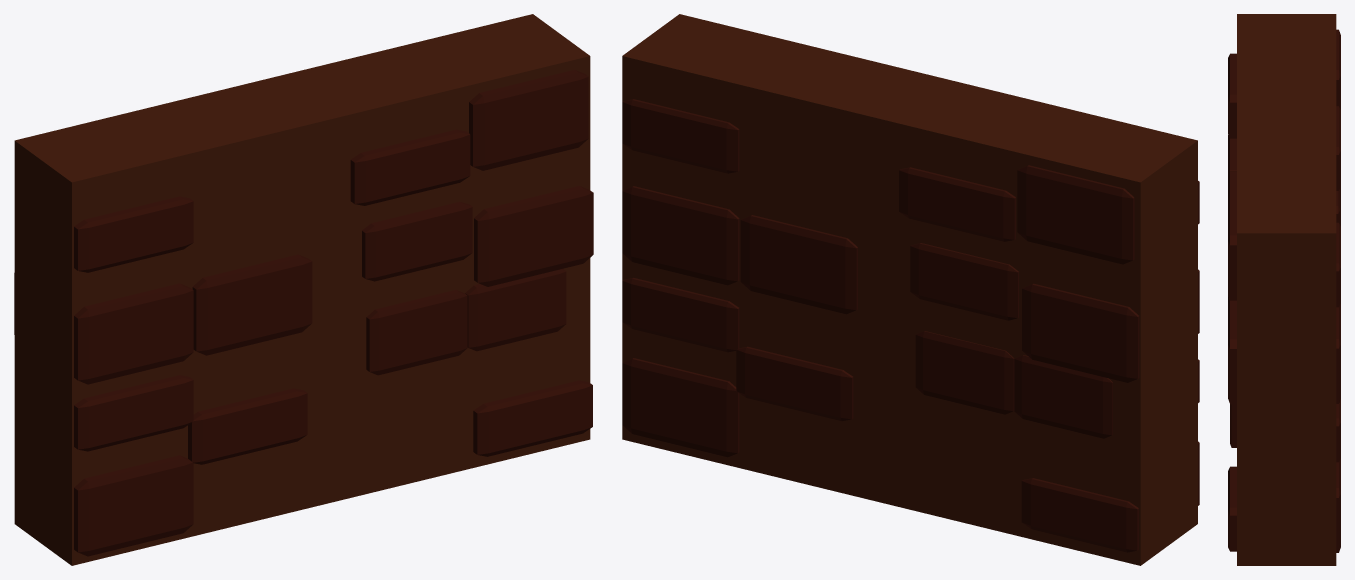
File: Wall05_house5.obj
3 views of the same model, side by side, from view 1: azimuth 30°, elevation 25°; view 2: azimuth 150°, elevation 25°; view 3: azimuth 270°, elevation 25° (orthographic). The views are drawn at different scales.
Visible parts, largest first — view 1: Wall05_house5_Cube.002; view 2: Wall05_house5_Cube.002; view 3: Wall05_house5_Cube.002.
Boxes of the visible parts, x1,y1,x2,y2 form: Wall05_house5_Cube.002: (14,14,593,565); Wall05_house5_Cube.002: (622,14,1199,565); Wall05_house5_Cube.002: (1228,14,1340,565).
Size of the model in its own units: 4.89 by 3.46 by 1.06.
